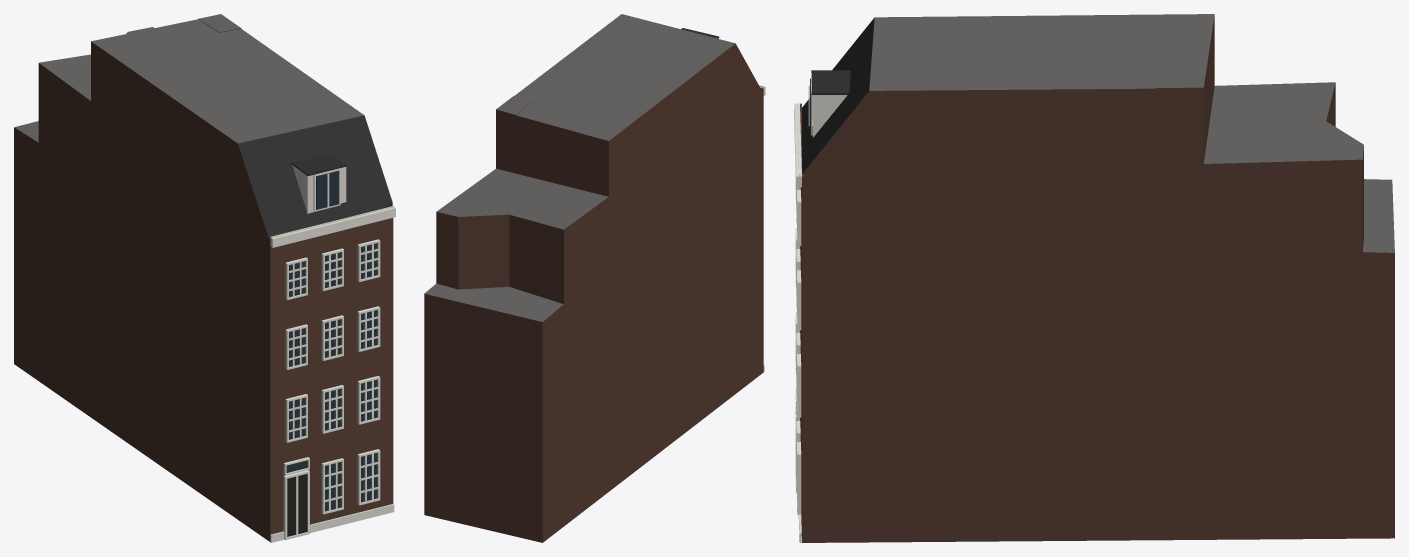
3 views of the same model, side by side, from view 1: azimuth 30°, elevation 25°; view 2: azimuth 150°, elevation 25°; view 3: azimuth 270°, elevation 25° (orthographic). The views are drawn at different scales.
Parts seen in each view (by area): view 1: spec-0363100012171186; view 2: spec-0363100012171186; view 3: spec-0363100012171186.
Part boxes in pixels (bbox=[...]): spec-0363100012171186: bbox=[14, 14, 395, 542]; spec-0363100012171186: bbox=[424, 14, 765, 542]; spec-0363100012171186: bbox=[794, 14, 1394, 542].
Size of the model in its own units: 5.49 by 14.76 by 17.78.
